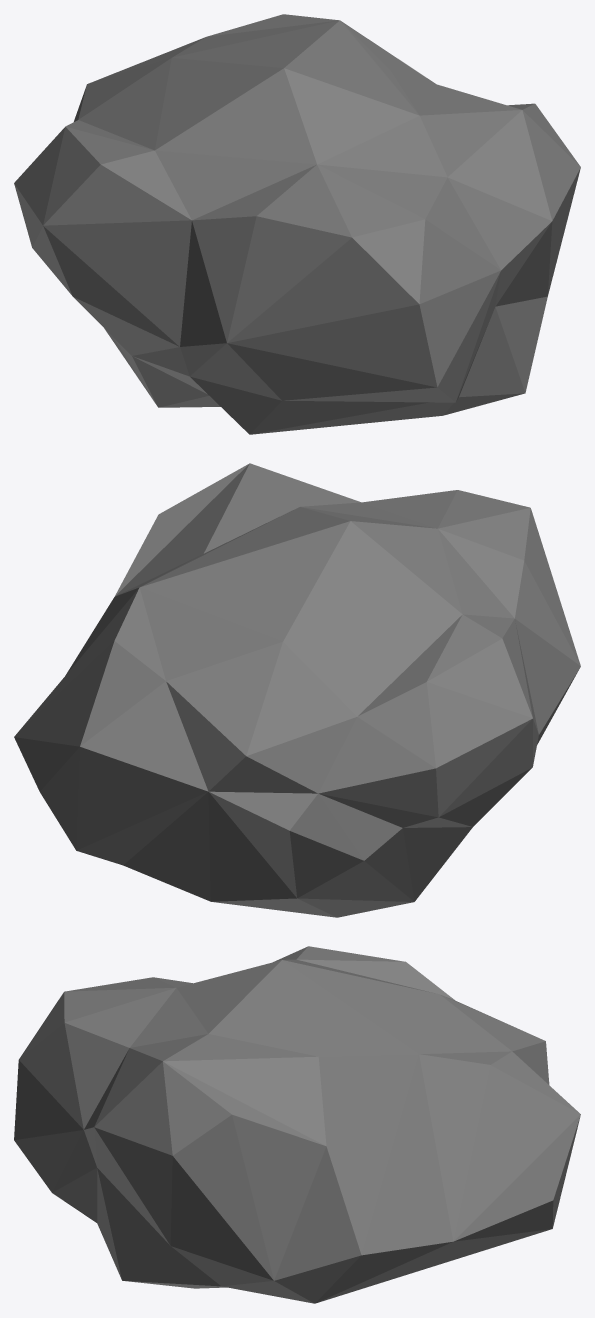
File: Rock2.fbx
3 renders of one model, top to bottom at view 1: azimuth 30°, elevation 25°; view 2: azimuth 150°, elevation 25°; view 3: azimuth 270°, elevation 25°, orthographic. The views are drawn at different scales.
Visible parts, largest first — view 1: Rock2; view 2: Rock2; view 3: Rock2.
Part boxes in pixels (x1=…): Rock2: x1=14, y1=14, x2=580, y2=434; Rock2: x1=14, y1=463, x2=580, y2=917; Rock2: x1=14, y1=946, x2=580, y2=1303.
Bounding box in the file's own units: 2.01 × 1.47 × 2.4.
